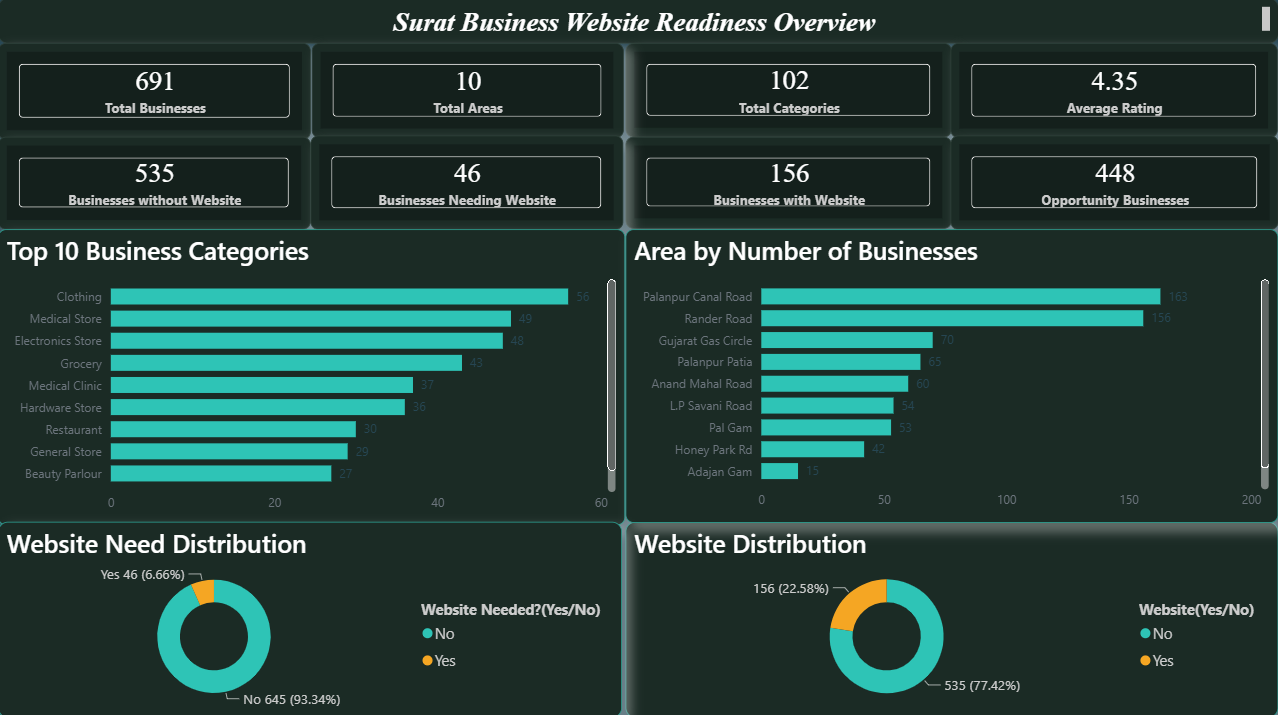

The page's visual inventory and layout, read from the dashboard file:
{"tool":"powerbi","page":{"name":"Page 1","canvas":[1280,720],"ordinal":0},"visuals":[{"type":"textbox","box":[0,0,1281,45.2],"z":0},{"type":"cardVisual","fields":{"Data":["Cleaned_Surat_Business_Dataset.Total Businesses"]},"box":[0,45.2,313.1,96.4],"z":1000},{"type":"cardVisual","fields":{"Data":["Cleaned_Surat_Business_Dataset.Total Categories"]},"box":[627.4,45.2,326.2,94],"z":2000},{"type":"cardVisual","fields":{"Data":["Cleaned_Surat_Business_Dataset.Total Areas"]},"box":[314.3,45.2,311.9,95.2],"z":3000},{"type":"cardVisual","fields":{"Data":["Cleaned_Surat_Business_Dataset.Average Rating"]},"box":[952.4,45.2,327.4,95.2],"z":4000},{"type":"cardVisual","fields":{"Data":["Cleaned_Surat_Business_Dataset.Businesses with Website"]},"box":[627.4,139.3,326.2,91.7],"z":5000},{"type":"cardVisual","fields":{"Data":["Cleaned_Surat_Business_Dataset.Businesses without Website"]},"box":[0,138.6,312.7,93],"z":6000},{"type":"cardVisual","fields":{"Data":["Cleaned_Surat_Business_Dataset.Businesses Needing Website"]},"box":[312.7,137.2,312.7,94.4],"z":7000},{"type":"cardVisual","fields":{"Data":["Cleaned_Surat_Business_Dataset.Opportunity Businesses"]},"box":[952.1,137.2,328.2,94.4],"z":8000},{"type":"clusteredBarChart","title":"Top 10 Business Categories","fields":{"Category":["Cleaned_Surat_Business_Dataset.Category"],"Y":["CountNonNull(Cleaned_Surat_Business_Dataset.Shop Name)"]},"box":[0,231.1,627,295.9],"z":9000},{"type":"donutChart","title":"Website Distribution","fields":{"Category":["Cleaned_Surat_Business_Dataset.Website(Yes/No)"],"Y":["CountNonNull(Cleaned_Surat_Business_Dataset.Shop Name)"]},"box":[627,524.3,652.7,195.9],"z":10000},{"type":"clusteredBarChart","title":"Area by Number of Businesses","fields":{"Category":["Cleaned_Surat_Business_Dataset.Address/Street"],"Y":["CountNonNull(Cleaned_Surat_Business_Dataset.Shop Name)"]},"box":[627,231.1,652.7,293.2],"z":11000},{"type":"donutChart","title":"Website Need Distribution","fields":{"Category":["Cleaned_Surat_Business_Dataset.Website Needed?(Yes/No)"],"Y":["CountNonNull(Cleaned_Surat_Business_Dataset.Shop Name)"]},"box":[0,524.3,624.3,195.9],"z":12000}]}

Visuals, with their boxes in screenshot pixels (x1, y1, x2, y2), scaled from the page's 1280x720 canvas onto the 1278x715 screenshot:
textbox: x1=0, y1=0, x2=1277, y2=45
cardVisual - Cleaned_Surat_Business_Dataset.Total Businesses: x1=0, y1=45, x2=313, y2=141
cardVisual - Cleaned_Surat_Business_Dataset.Total Categories: x1=626, y1=45, x2=952, y2=138
cardVisual - Cleaned_Surat_Business_Dataset.Total Areas: x1=314, y1=45, x2=625, y2=139
cardVisual - Cleaned_Surat_Business_Dataset.Average Rating: x1=951, y1=45, x2=1277, y2=139
cardVisual - Cleaned_Surat_Business_Dataset.Businesses with Website: x1=626, y1=138, x2=952, y2=229
cardVisual - Cleaned_Surat_Business_Dataset.Businesses without Website: x1=0, y1=138, x2=312, y2=230
cardVisual - Cleaned_Surat_Business_Dataset.Businesses Needing Website: x1=312, y1=136, x2=624, y2=230
cardVisual - Cleaned_Surat_Business_Dataset.Opportunity Businesses: x1=951, y1=136, x2=1277, y2=230
"Top 10 Business Categories" clusteredBarChart: x1=0, y1=229, x2=626, y2=523
"Website Distribution" donutChart: x1=626, y1=521, x2=1277, y2=714
"Area by Number of Businesses" clusteredBarChart: x1=626, y1=229, x2=1277, y2=521
"Website Need Distribution" donutChart: x1=0, y1=521, x2=623, y2=714
